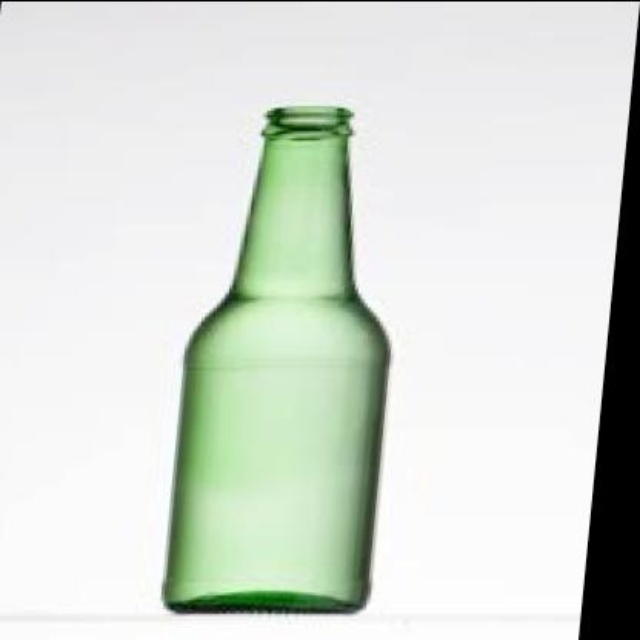trash: (163, 106, 388, 611)
